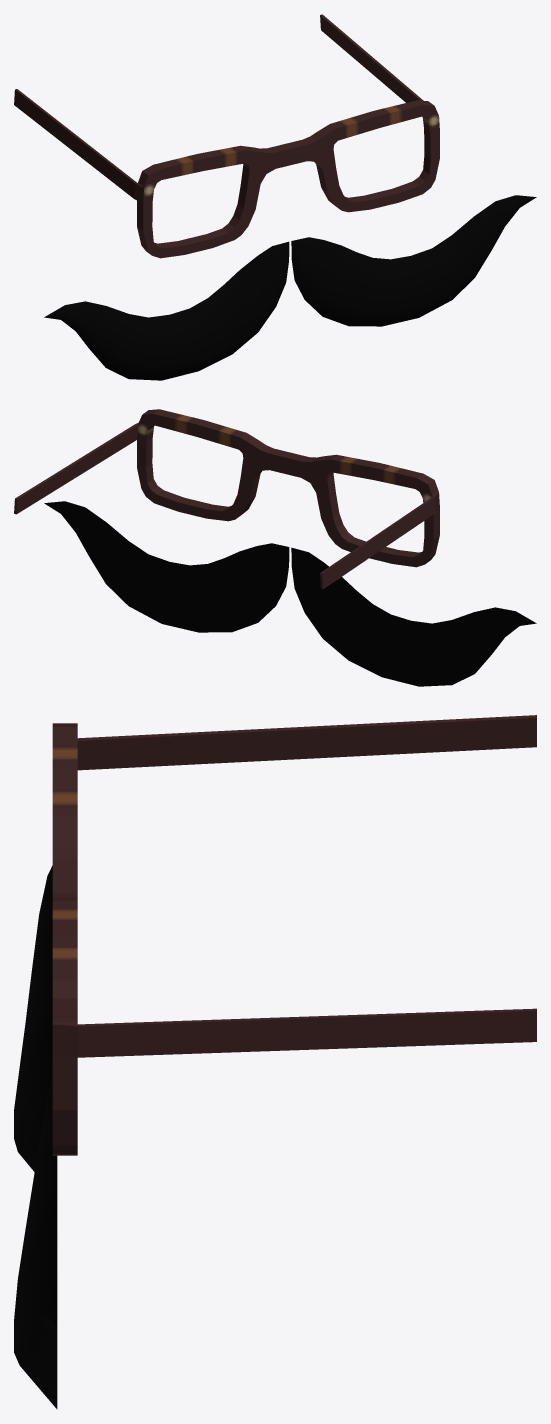
Rendered from top_acc_21.FBX.
3 renders of one model, top to bottom at view 1: azimuth 30°, elevation 25°; view 2: azimuth 150°, elevation 25°; view 3: azimuth 270°, elevation 25°, orthographic. The views are drawn at different scales.
Visible parts, largest first — view 1: top_acc_21; view 2: top_acc_21; view 3: top_acc_21.
Part boxes in pixels (box(x1,y1,x2,y2)): top_acc_21: box(14, 14, 536, 380); top_acc_21: box(14, 409, 536, 686); top_acc_21: box(14, 715, 536, 1409).
Size of the model in its own units: 43.24 by 17.85 by 20.16.
